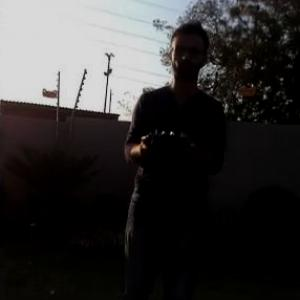follow: (113, 15, 230, 299)
